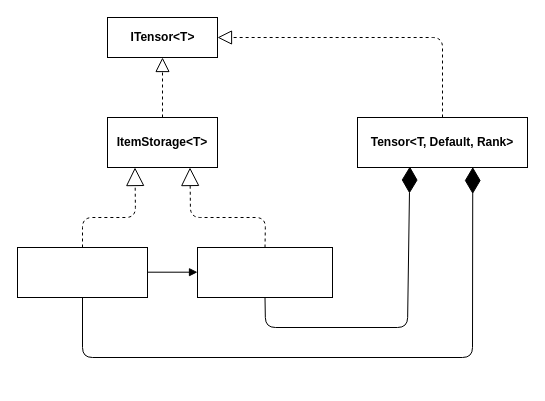
Image size: 545x401. Some labels were removed from this diagram. Here are the shapes that lost their labels. From the top down, the box of each, then its label:
(16, 246, 148, 298): Vector<T, Default>
(196, 246, 332, 298): Scalar<T, Default>
